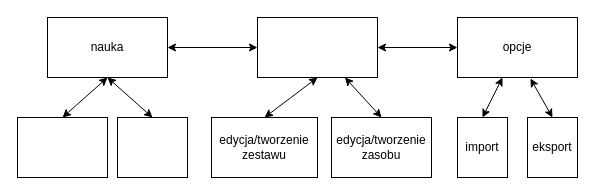
This 595x195 diagram has some shape labels left out. Each missing label, with the centre of its shape:
"prezentacja" belongs at (x=62, y=147).
"test" belongs at (x=152, y=147).
"zestawy" belongs at (x=317, y=47).
